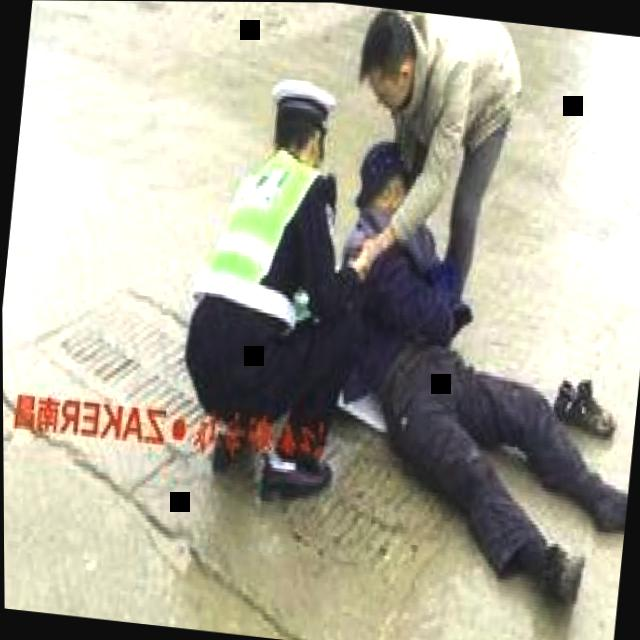Fall-Detected: (287, 98, 640, 621)
